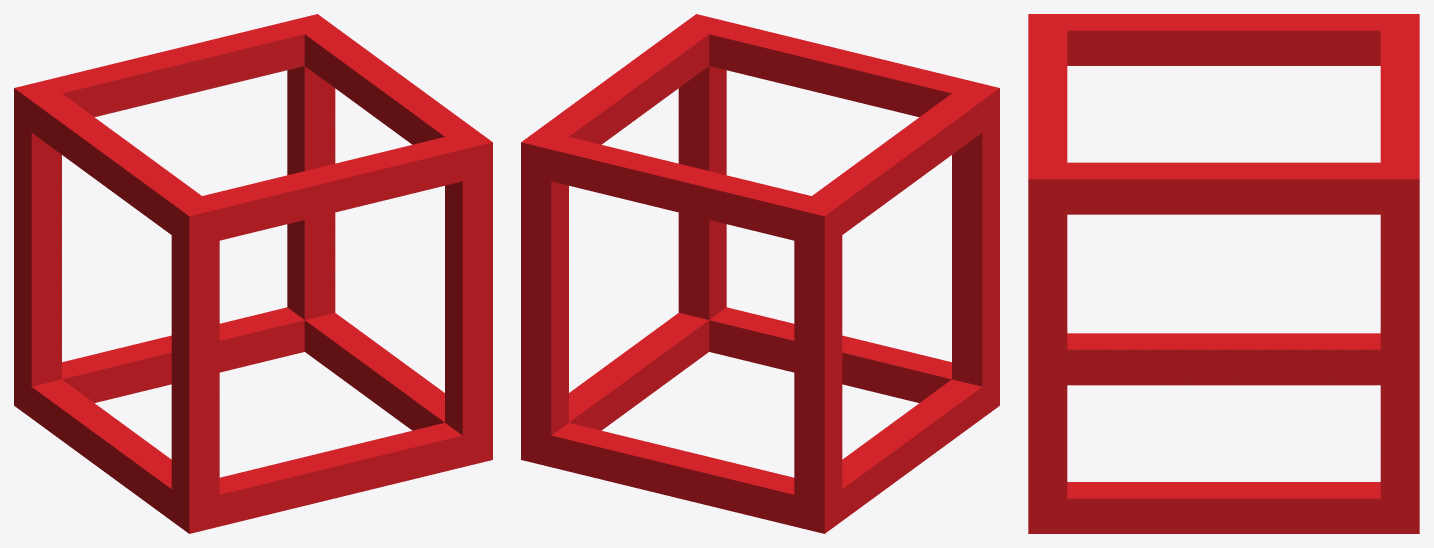
The model's file is cb_external.glb.
3 views of the same model, side by side, from view 1: azimuth 30°, elevation 25°; view 2: azimuth 150°, elevation 25°; view 3: azimuth 270°, elevation 25° (orthographic). The views are drawn at different scales.
Visible parts, largest first — view 1: node_id3; view 2: node_id3; view 3: node_id3.
Boxes of the visible parts, x1,y1,x2,y2 form: node_id3: [14, 14, 492, 533]; node_id3: [521, 14, 999, 533]; node_id3: [1028, 14, 1419, 533].
Bounding box in the file's own units: 0.512 × 0.512 × 0.512.
Materials: 1 (1 with a texture image).
